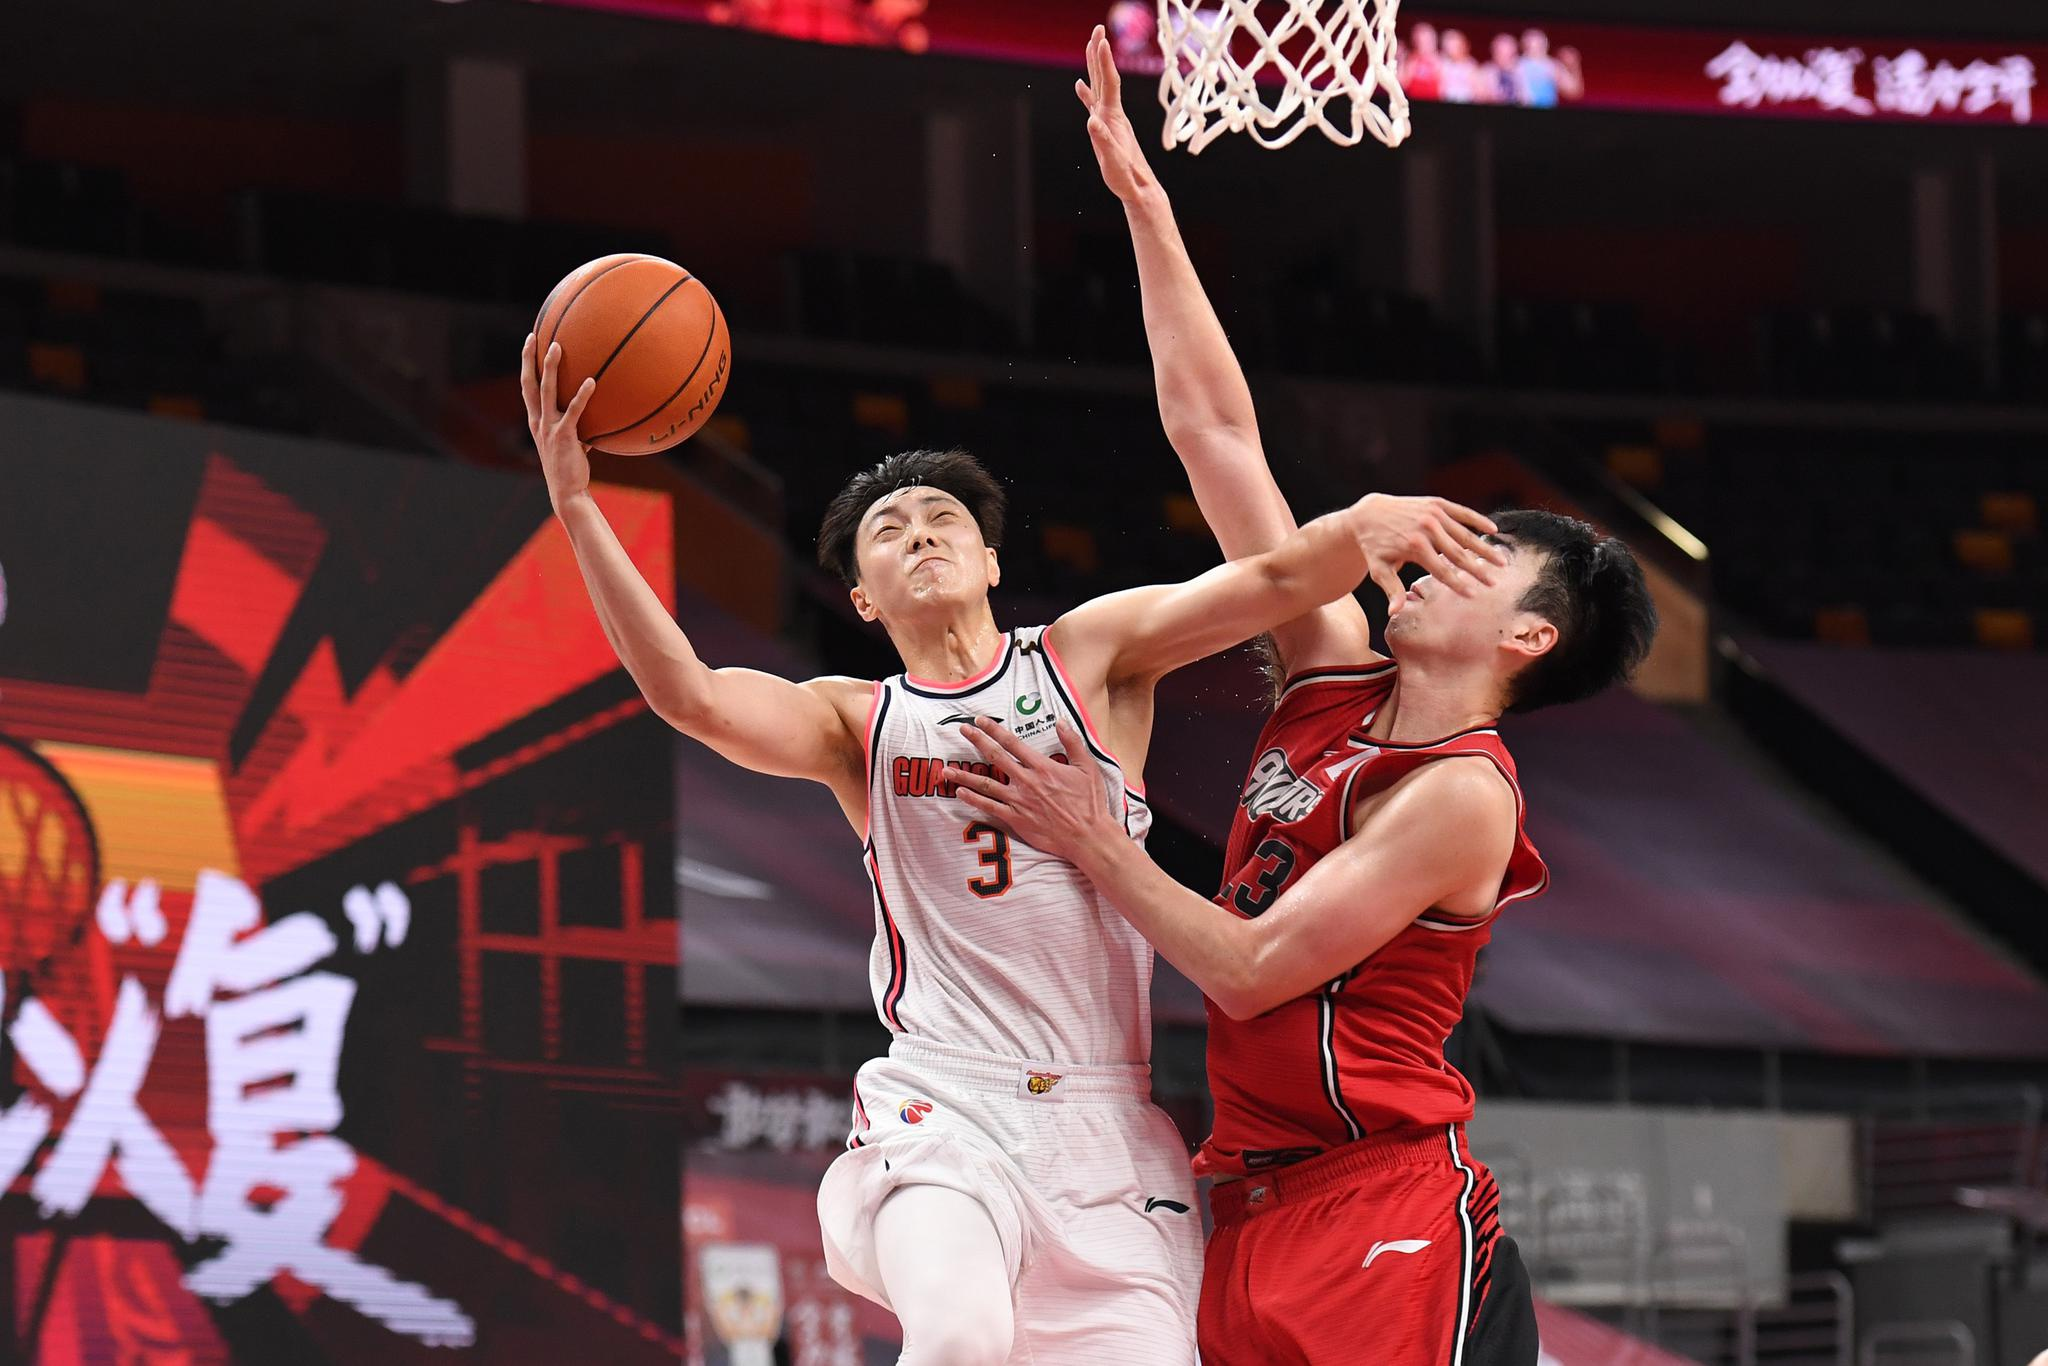ball: (535, 252, 728, 456)
